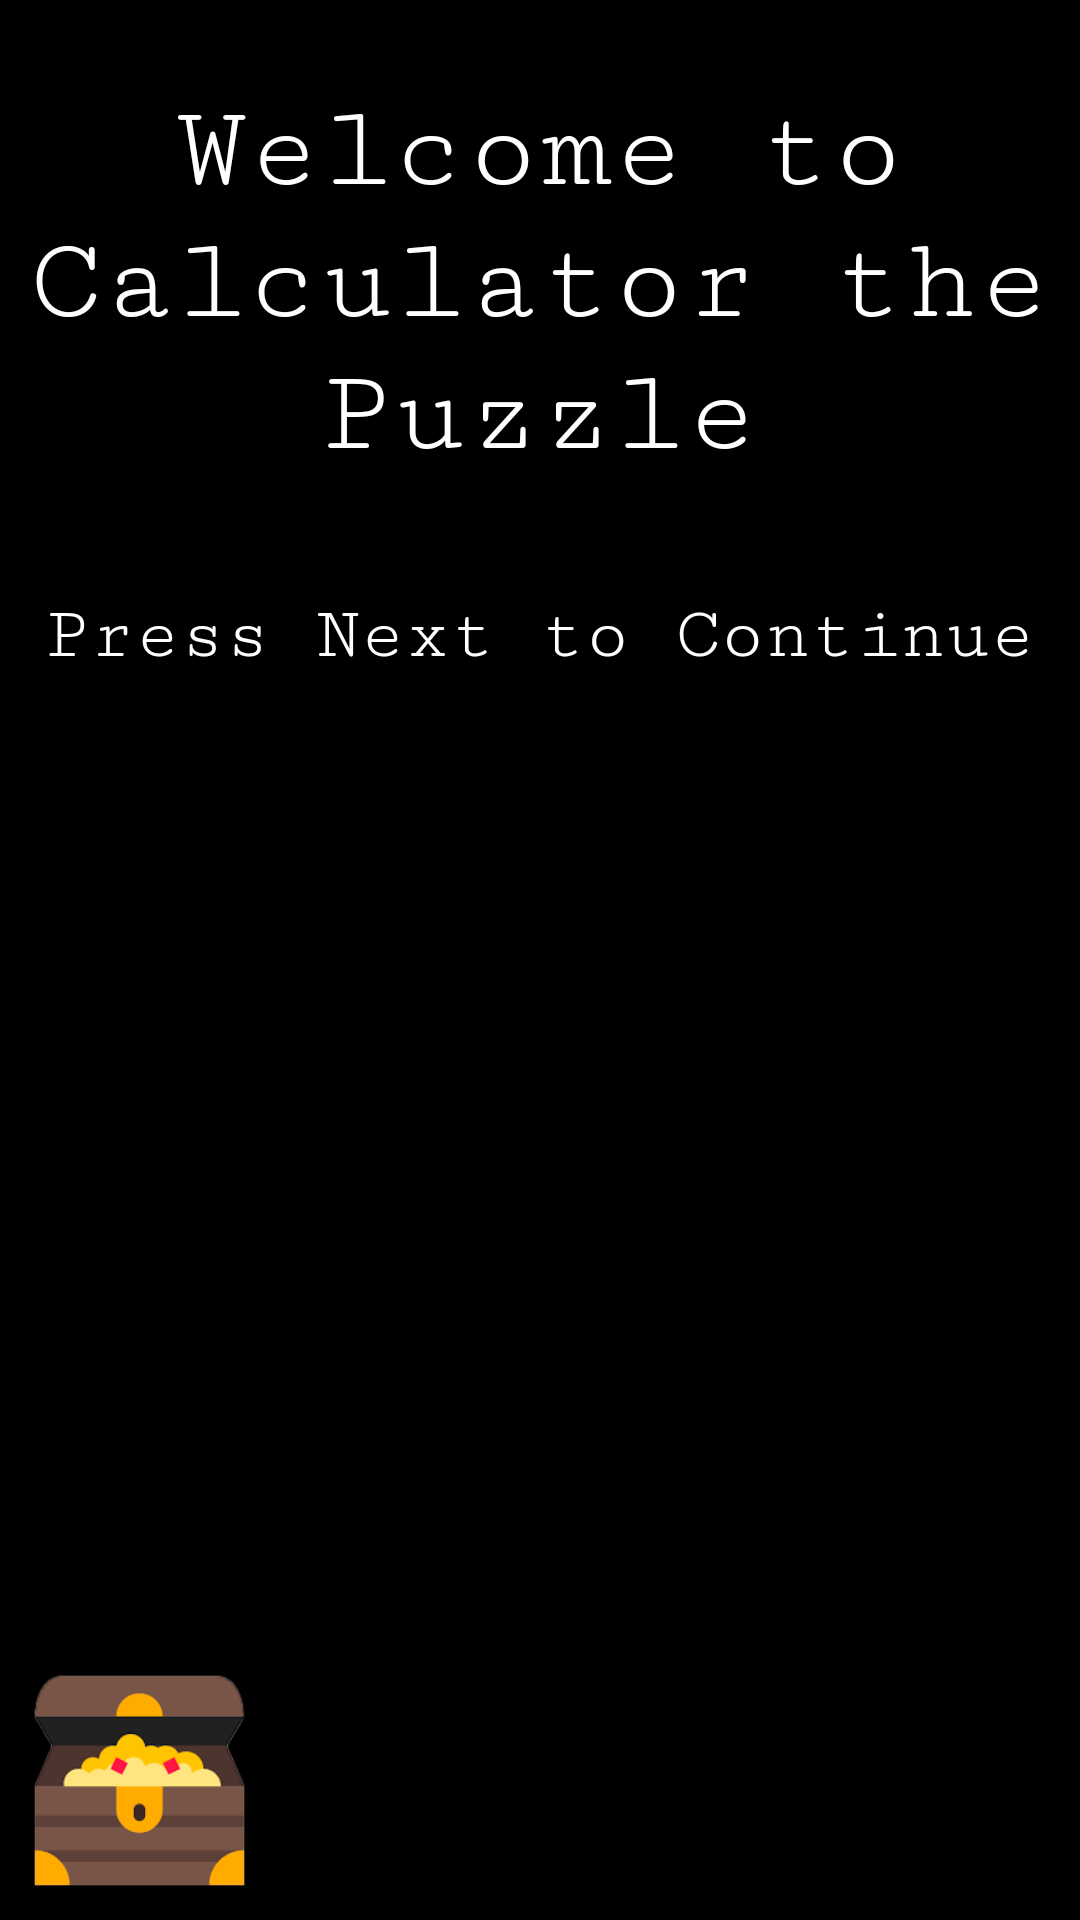

Where icons sit on this 1080x1920 app screen, as box=[x1, y1, x2, y2]:
treasure: box=[34, 1675, 245, 1886]
